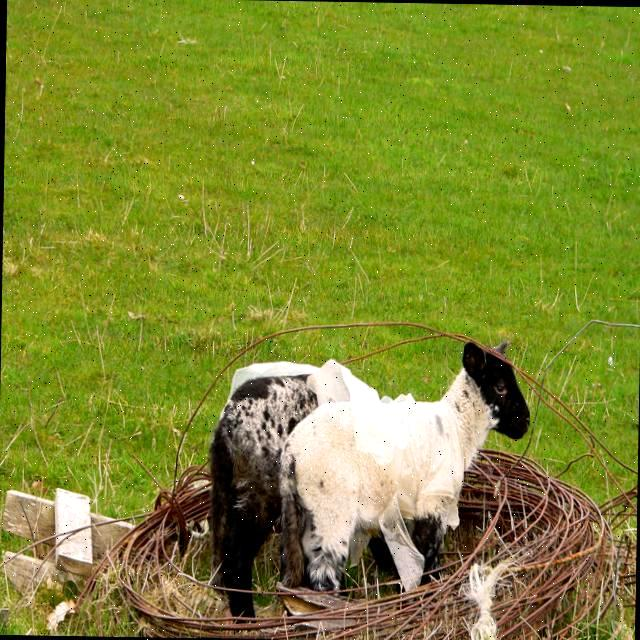sheep: (279, 340, 528, 588), (207, 373, 392, 615)
